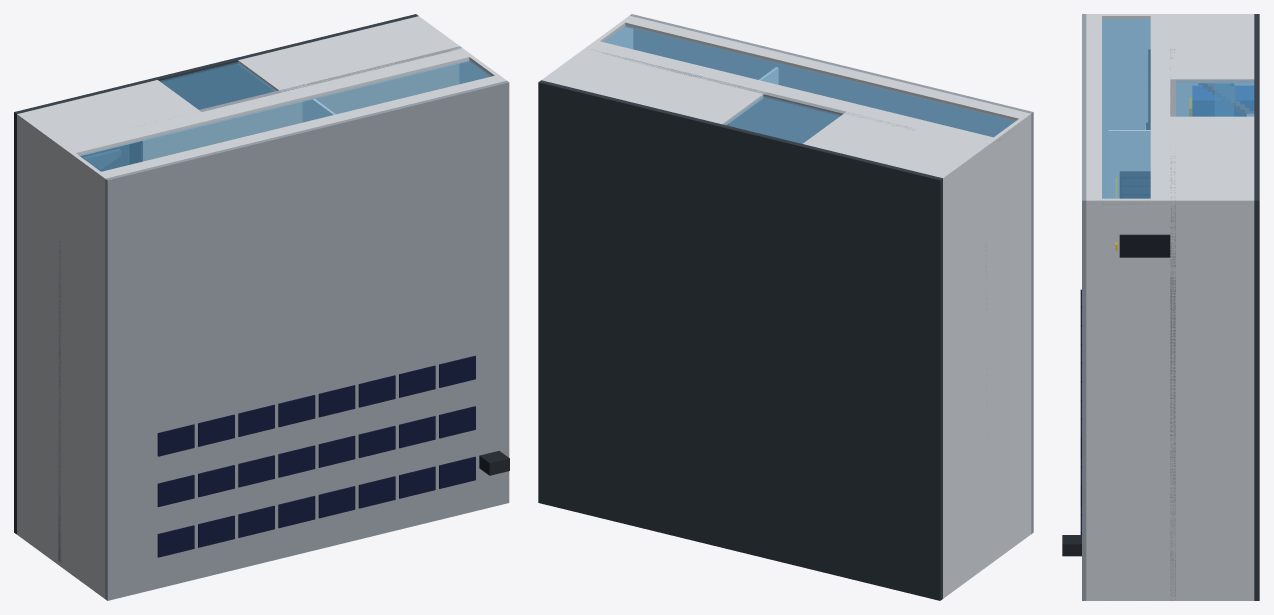
Rendered from planta_otech_3d.obj.
The picture shows the model from 3 angles, left to right: view 1: azimuth 30°, elevation 25°; view 2: azimuth 150°, elevation 25°; view 3: azimuth 270°, elevation 25°; orthographic projection. The views are drawn at different scales.
Size of the model in its own units: 20.2 by 20 by 8.95.
